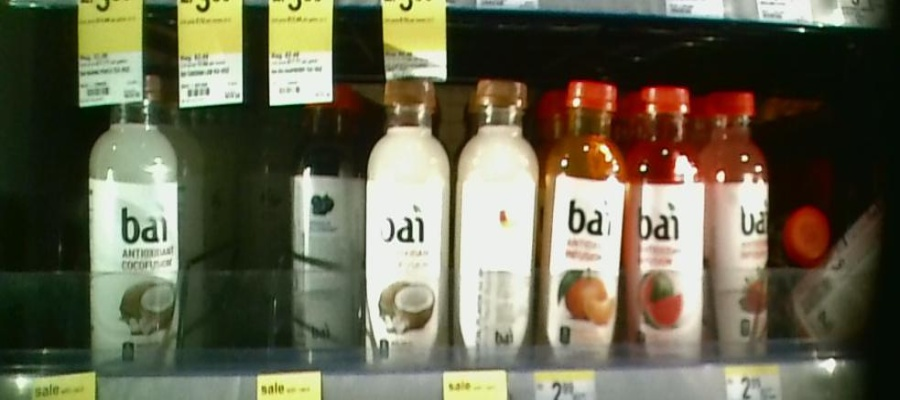bottle: (85, 83, 181, 378), (367, 63, 450, 367), (453, 75, 540, 365), (543, 75, 625, 364), (627, 75, 706, 360), (291, 84, 367, 353), (709, 80, 769, 364), (234, 103, 287, 329), (776, 195, 840, 287)
